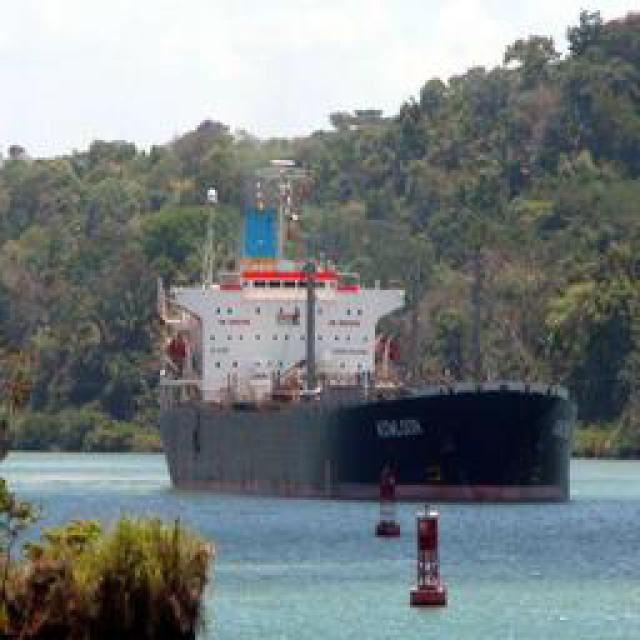Ship: (141, 155, 578, 508)
